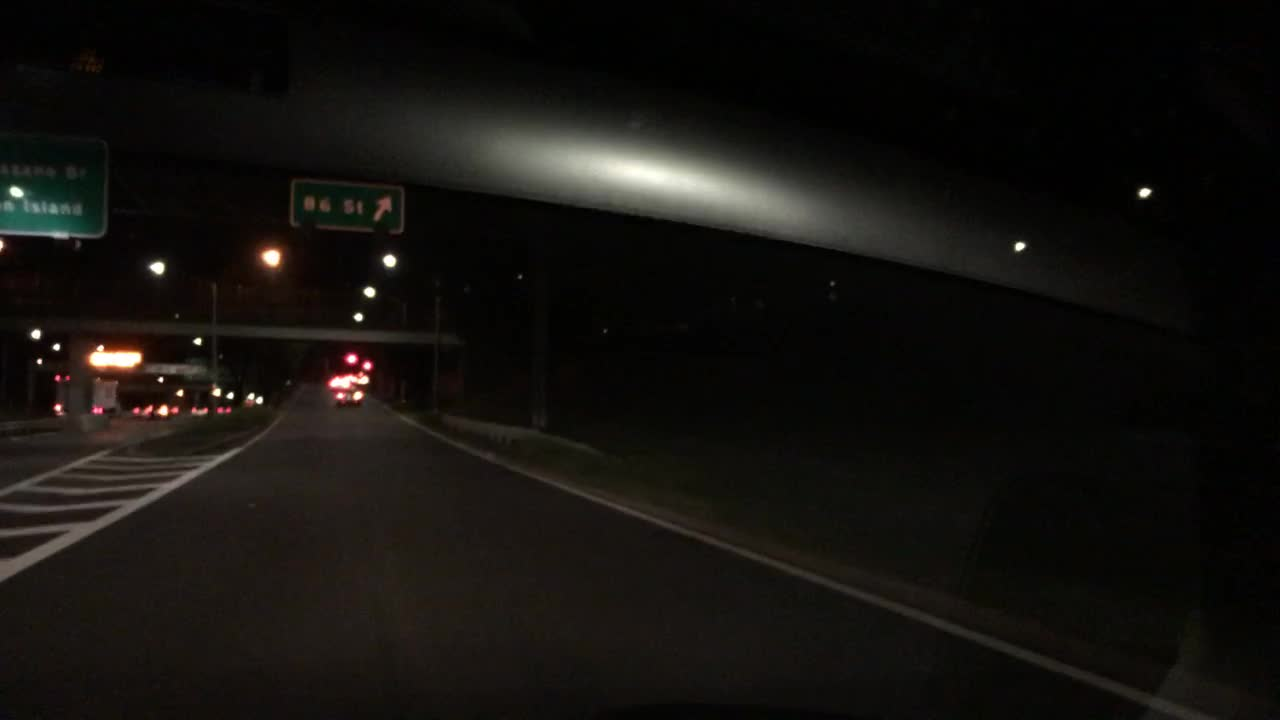car: (334, 388, 361, 408), (325, 374, 351, 390), (131, 401, 155, 418), (189, 400, 211, 418), (155, 403, 182, 417), (212, 401, 234, 415)
traffic light: (344, 347, 359, 368), (359, 359, 373, 373)
traffic sign: (0, 130, 111, 236), (287, 172, 403, 236), (89, 351, 139, 368)
truck: (50, 371, 120, 420)
